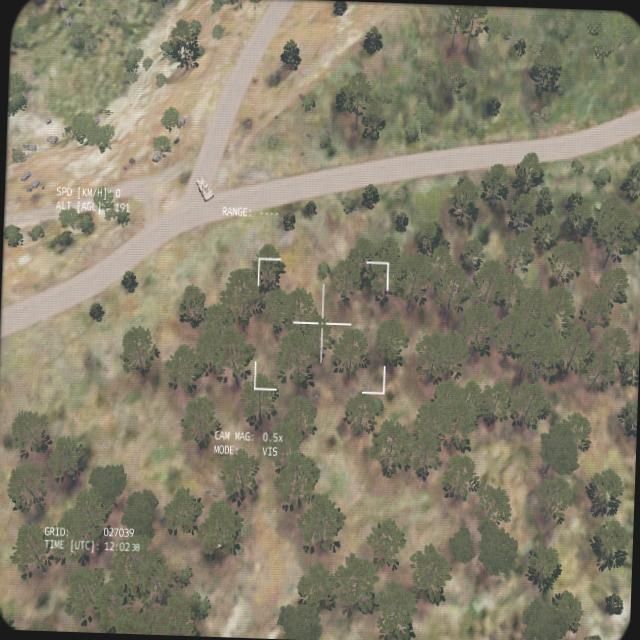apc: (194, 173, 213, 200)
